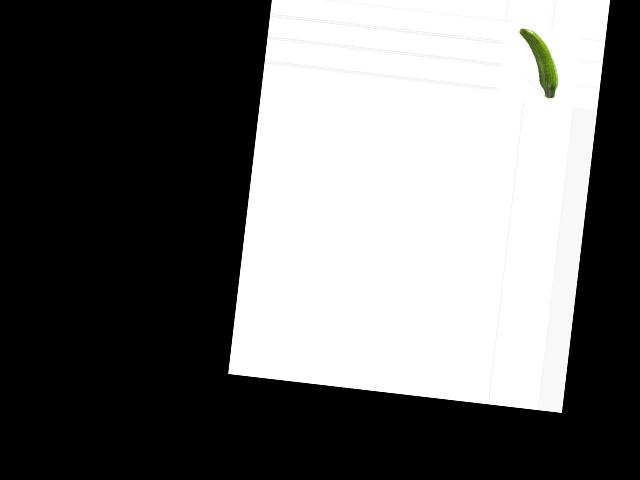cucumber: (511, 28, 563, 100)
